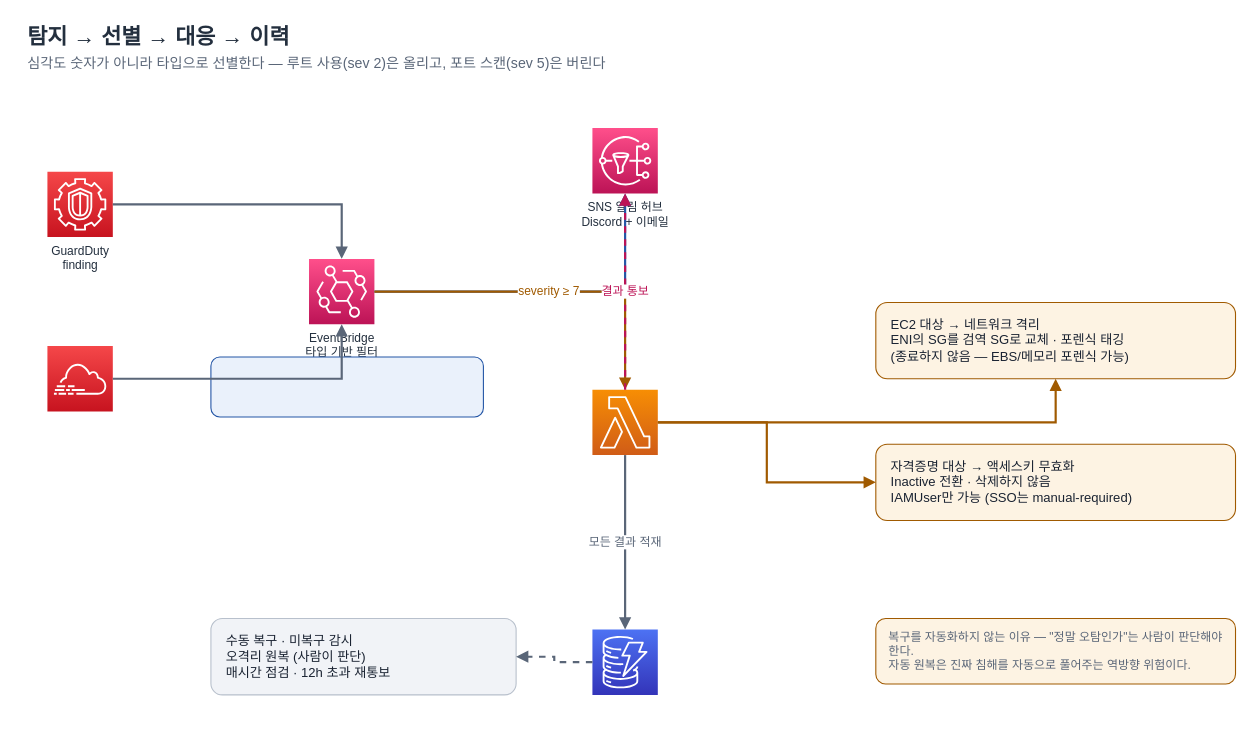
This 1255x749 diagram has some shape labels left out. The centre of each missing label's shape, as x and y in pixels:
"CloudTrail IAM · 루트 · 로그인 실패" belongs at point (79, 378).
"DynamoDB 이력 언제·무엇을·왜 · TTL 90일" belongs at point (624, 661).
"자동 대응 Lambda 드라이런 스위치 보유" belongs at point (624, 422).
"항상 통보: 루트 · 자격증명 · 유출 · 백도어 · 암호화폐 제외: 포트스캔 · SSH/RDP 무차별대입" belongs at point (346, 386).
